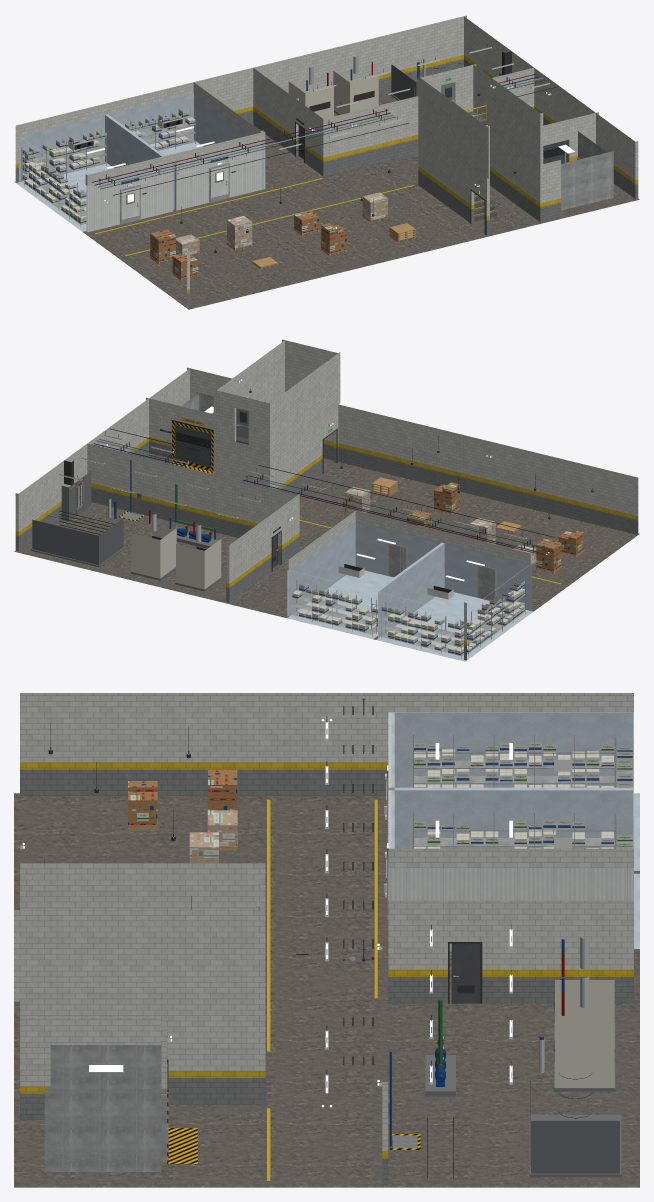
File: basement.glb
The picture shows the model from 3 angles, top to bottom: view 1: azimuth 30°, elevation 25°; view 2: azimuth 150°, elevation 25°; view 3: azimuth 270°, elevation 25°; orthographic projection. The views are drawn at different scales.
Visible parts, largest first — view 1: Wall_Block, Floor_Concrete.001, Paint_Palette, Frost_Panel, Freezer_Panel, Wall_Lower, Steel_Galv, Carton, Carton_Load, Wall_Band, Wrap_Load, Floor_Frost.001 (+5 smaller); view 2: Wall_Block, Floor_Concrete.001, Paint_Palette, Frost_Panel, Wall_Lower, Carton, Floor_Frost.001, Steel_Galv, Wall_Band, Carton_Load, DoorLeaf_freight_lift, Wrap_Load (+2 smaller); view 3: Floor_Concrete.001, Wall_Block, Frost_Panel, Steel_Galv, Paint_Palette, Wall_Lower, Carton, Freezer_Panel, Wall_Band, Carton_Load, Floor_Paint, Wrap_Load (+4 smaller).
Part boxes in pixels (x1=…): Wall_Block: x1=15, y1=15, x2=638, y2=289; Floor_Concrete.001: x1=83, y1=91, x2=639, y2=309; Paint_Palette: x1=68, y1=47, x2=571, y2=234; Frost_Panel: x1=19, y1=93, x2=263, y2=231; Freezer_Panel: x1=87, y1=142, x2=265, y2=232; Wall_Lower: x1=15, y1=59, x2=638, y2=308; Steel_Galv: x1=21, y1=106, x2=613, y2=226; Carton: x1=22, y1=109, x2=195, y2=224; Carton_Load: x1=150, y1=210, x2=346, y2=278; Wall_Band: x1=15, y1=55, x2=638, y2=293; Wrap_Load: x1=176, y1=192, x2=387, y2=255; Floor_Frost.001: x1=14, y1=141, x2=202, y2=231; Wall_Block: x1=15, y1=339, x2=638, y2=641; Floor_Concrete.001: x1=14, y1=440, x2=639, y2=639; Paint_Palette: x1=31, y1=379, x2=554, y2=599; Frost_Panel: x1=288, y1=521, x2=530, y2=638; Wall_Lower: x1=15, y1=441, x2=638, y2=660; Carton: x1=292, y1=581, x2=524, y2=655; Floor_Frost.001: x1=287, y1=570, x2=533, y2=661; Steel_Galv: x1=175, y1=392, x2=525, y2=658; Wall_Band: x1=15, y1=437, x2=638, y2=645; Carton_Load: x1=406, y1=482, x2=583, y2=571; DoorLeaf_freight_lift: x1=175, y1=425, x2=210, y2=470; Wrap_Load: x1=344, y1=486, x2=536, y2=563; Floor_Concrete.001: x1=14, y1=793, x2=639, y2=1187; Wall_Block: x1=14, y1=693, x2=633, y2=1151; Frost_Panel: x1=391, y1=712, x2=633, y2=848; Steel_Galv: x1=44, y1=735, x2=633, y2=1171; Paint_Palette: x1=20, y1=698, x2=621, y2=1178; Wall_Lower: x1=20, y1=769, x2=633, y2=1184; Carton: x1=413, y1=741, x2=632, y2=848; Freezer_Panel: x1=388, y1=712, x2=633, y2=951; Wall_Band: x1=20, y1=762, x2=633, y2=1158; Carton_Load: x1=128, y1=770, x2=237, y2=825; Floor_Paint: x1=267, y1=799, x2=377, y2=1180; Wrap_Load: x1=189, y1=810, x2=237, y2=863.
Bounding box in the file's own units: 30.45 × 7.25 × 20.4.
26 materials, 21 textured.
